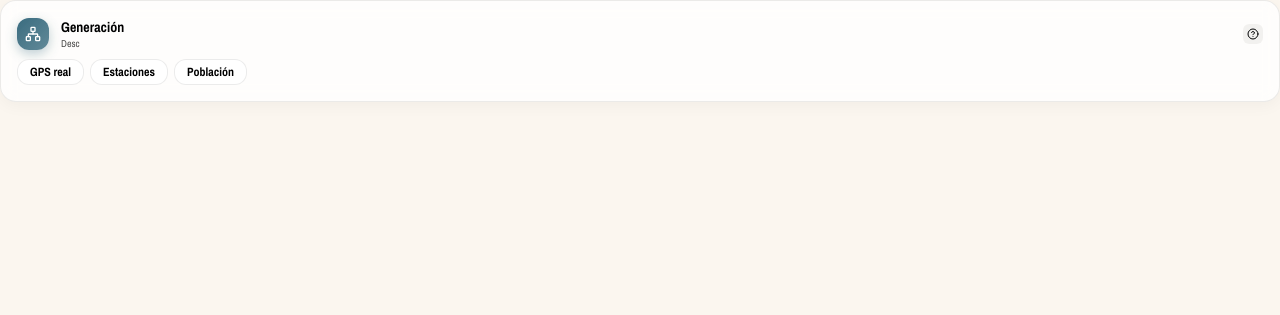
Test case: FilterCard — per-option methodology accordion › shows all options collapsed when no activeValue
The width and height of the screenshot is (1280, 315).
What coordinates should you click on to do the following:
click the button named "mostrar información"
I would click on:
 (1253, 34)
Its box is [1243,24,1263,44].
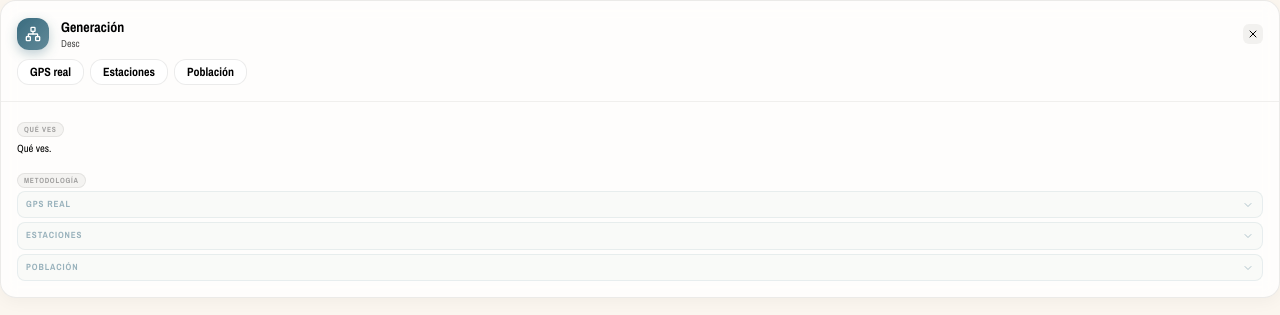
Expected: the button with aria-label "expandir gps real" is shown, [18,192,1262,217]
